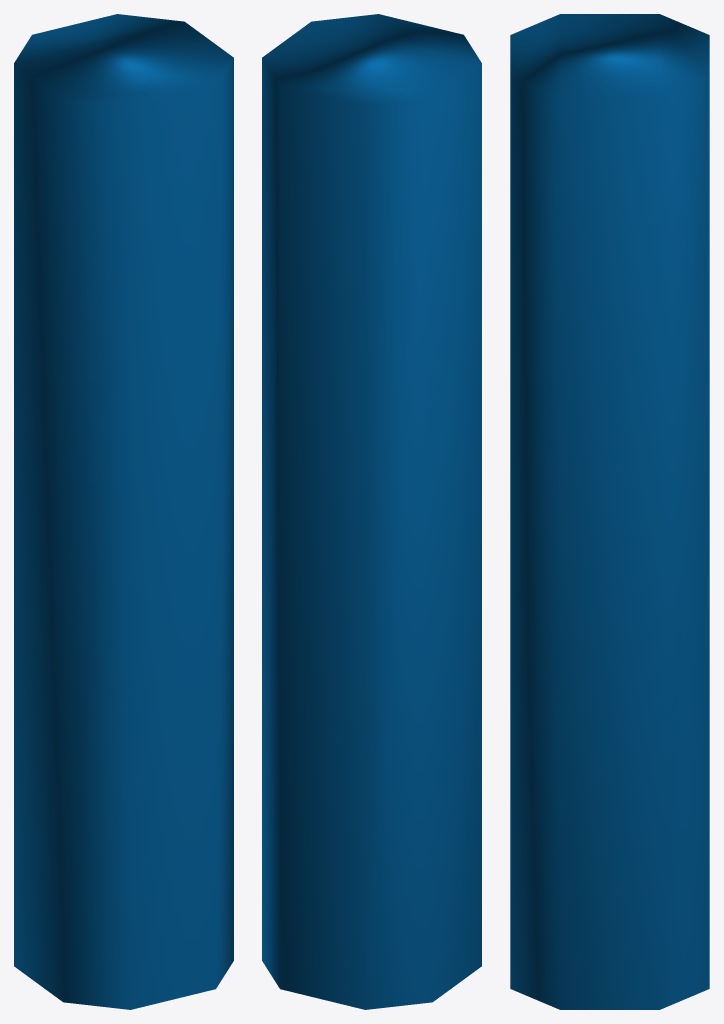
The model's file is 5_Metal.fbx.
3 views of the same model, side by side, from view 1: azimuth 30°, elevation 25°; view 2: azimuth 150°, elevation 25°; view 3: azimuth 270°, elevation 25° (orthographic).
Parts seen in each view (by area): view 1: pasted___pCube37; view 2: pasted___pCube37; view 3: pasted___pCube37.
Boxes of the visible parts, bbox=[...] form: pasted___pCube37: bbox=[14, 14, 233, 1009]; pasted___pCube37: bbox=[262, 14, 481, 1009]; pasted___pCube37: bbox=[510, 14, 709, 1009].
Bounding box in the file's own units: 0.1802 × 0.9112 × 0.1802.
